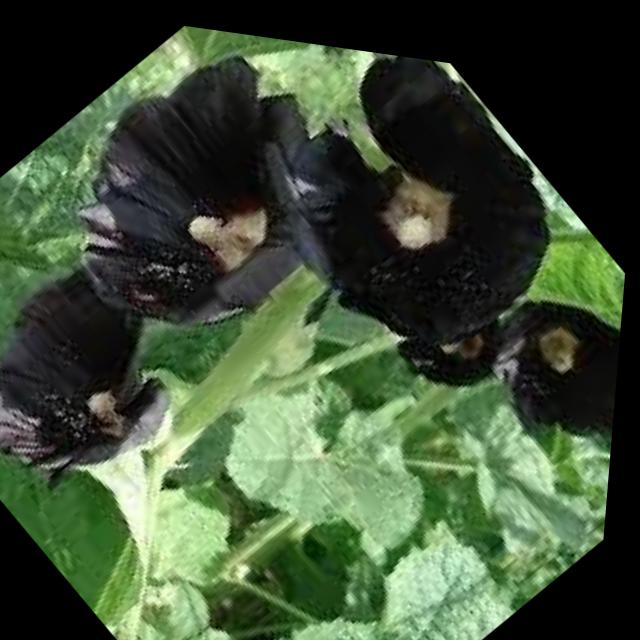Flower: (13, 4, 389, 391), (235, 28, 593, 374), (0, 217, 244, 546), (472, 230, 629, 461)
